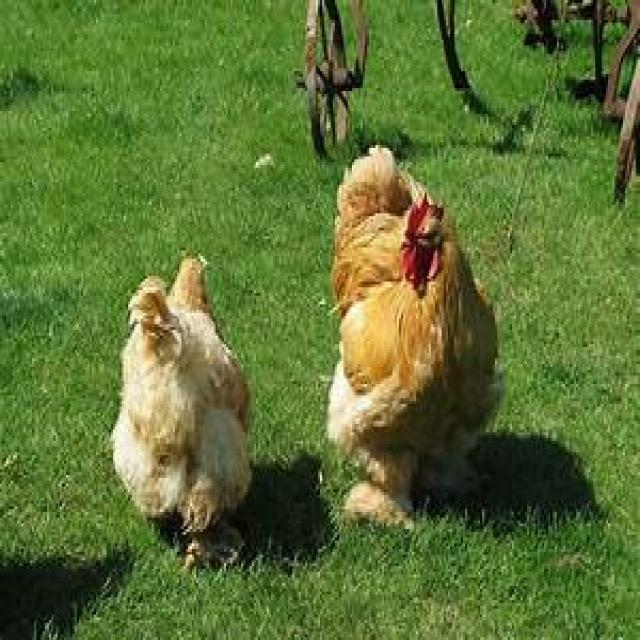hen: (328, 147, 499, 522), (111, 257, 251, 568)
